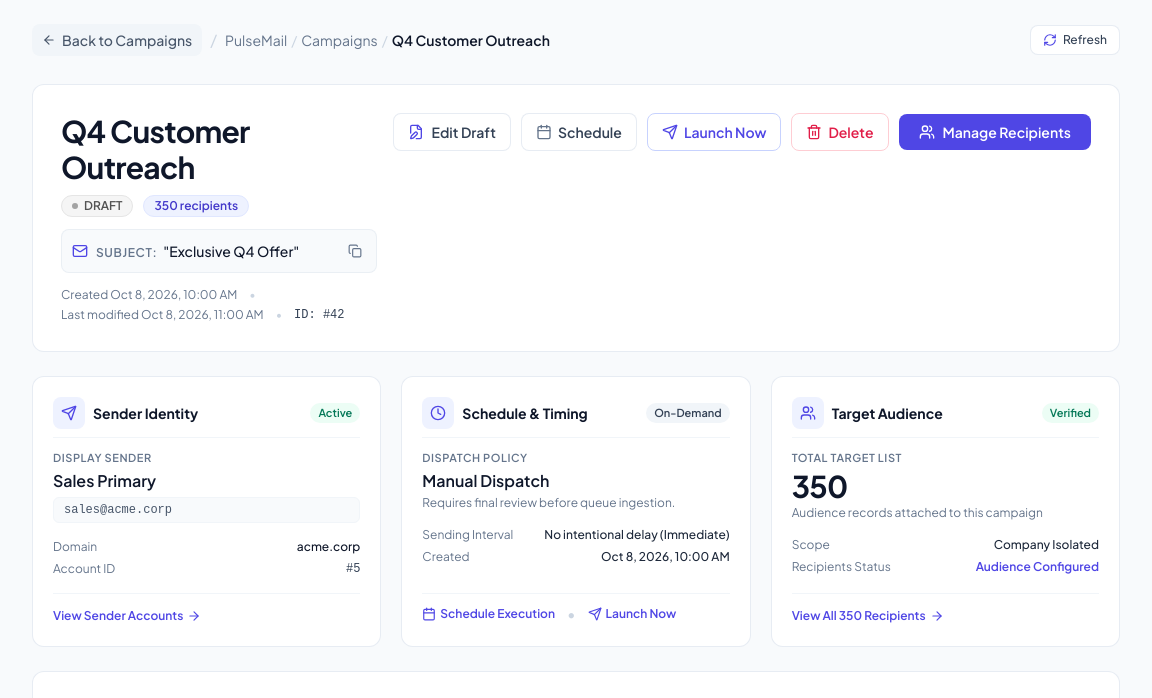
it: Campaign Detail & Navigation (C12.3 Integration) › 1. CampaignDetailPage Rendering & State Handling › copies subject line to clipboard when clicking copy icon
Check: the heading "Q4 Customer Outreach" is shown, box top-left (61, 112), bottom-right (250, 186)
Click the button titled "Copy Subject Line": (355, 251) top-left (344, 240), bottom-right (366, 262)
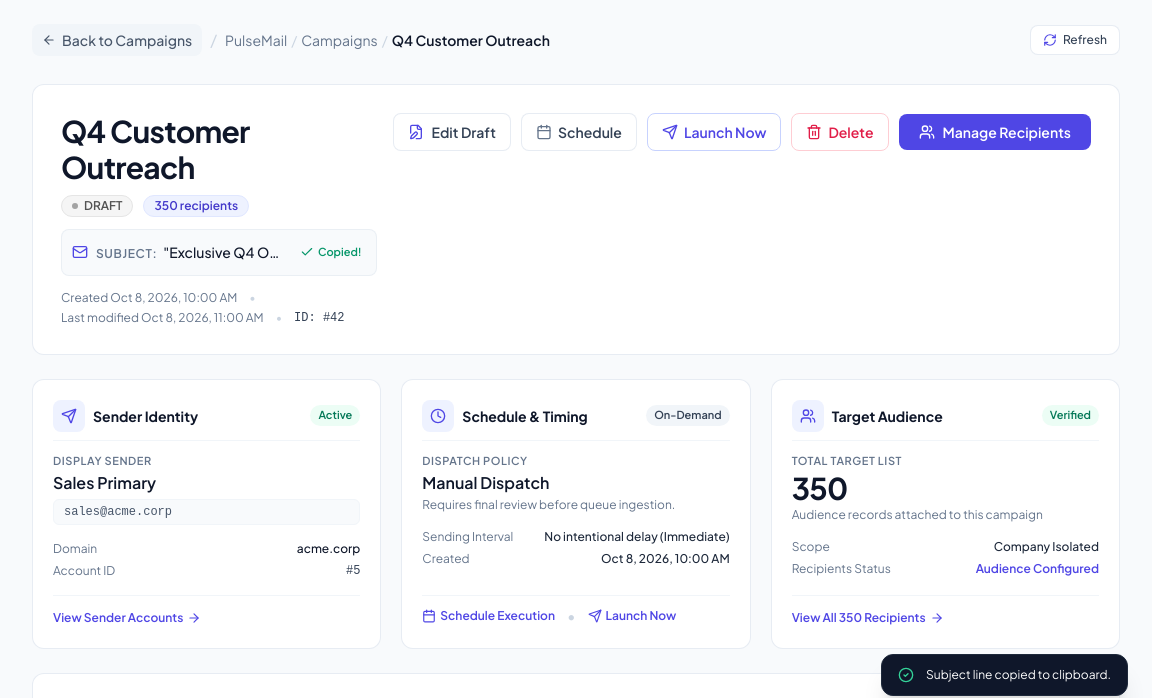
Check: the text "Copied!" is shown, box top-left (318, 244), bottom-right (362, 260)
